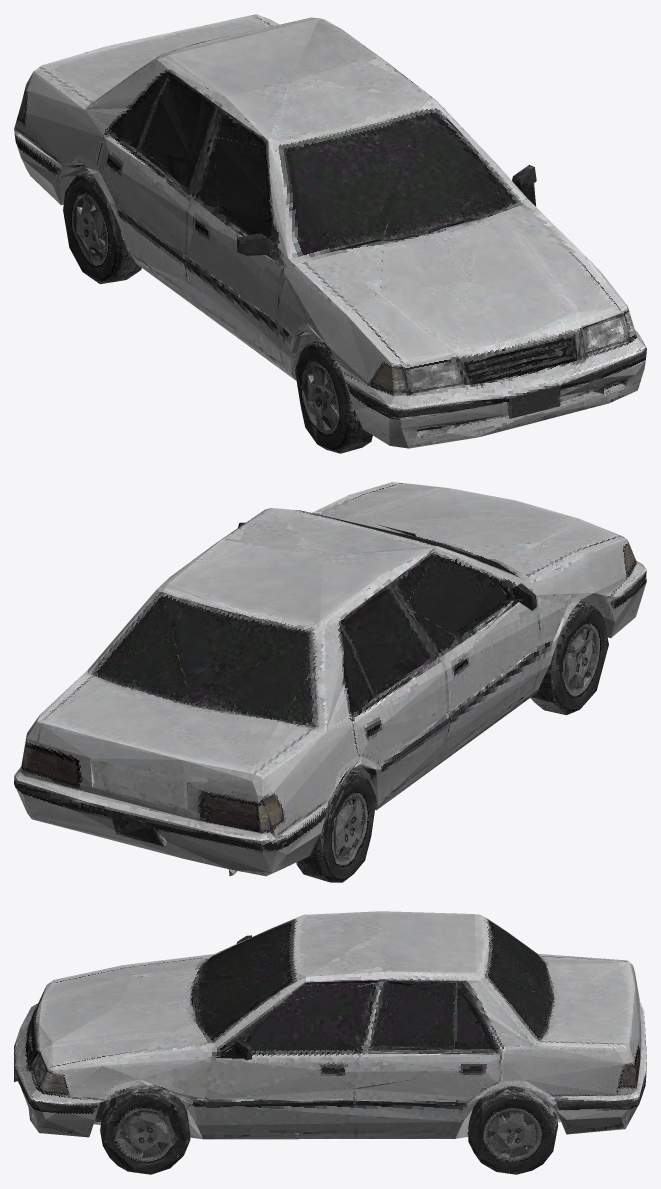
File: sedan_silver.glb
3 renders of one model, top to bottom at view 1: azimuth 30°, elevation 25°; view 2: azimuth 150°, elevation 25°; view 3: azimuth 270°, elevation 25°, orthographic. The views are drawn at different scales.
Parts seen in each view (by area): view 1: car_sedan; view 2: car_sedan; view 3: car_sedan.
Boxes of the visible parts, x1,y1,x2,y2 form: car_sedan: (14, 14, 646, 453); car_sedan: (14, 482, 646, 882); car_sedan: (14, 911, 646, 1174).
Bounding box in the file's own units: 1.96 × 1.48 × 4.55.
1 material, 1 textured.
